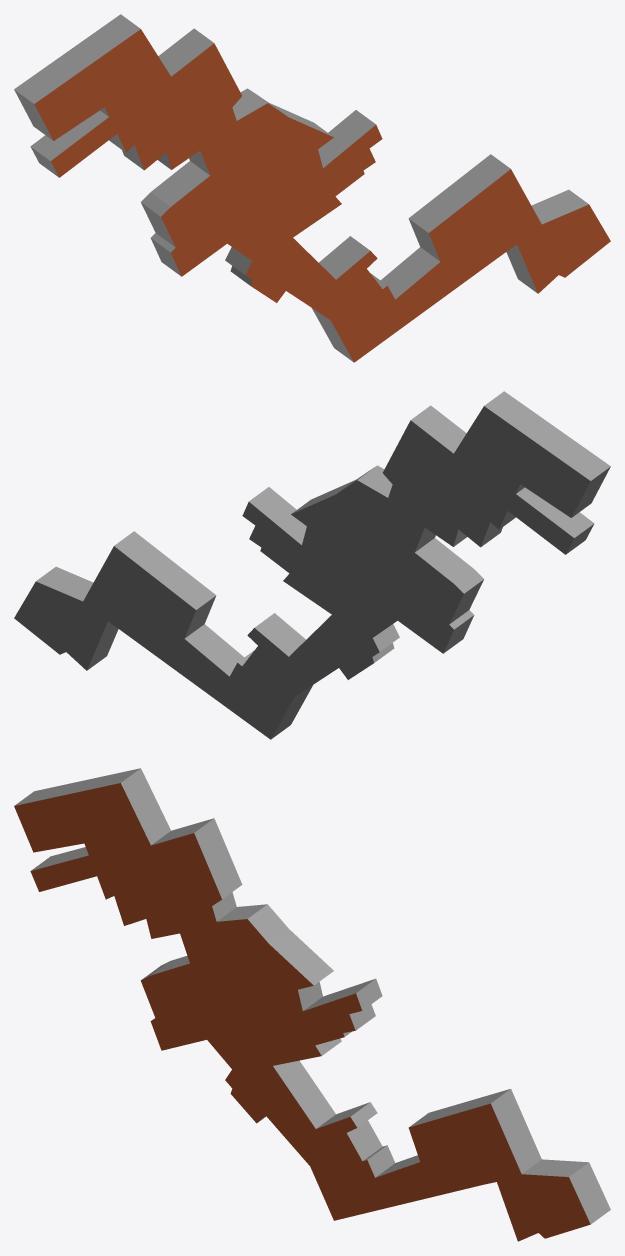
Rendered from construction_5141_assumed_A_Casa_h6m.obj.
3 views of the same model, one above another, from view 1: azimuth 30°, elevation 25°; view 2: azimuth 150°, elevation 25°; view 3: azimuth 330°, elevation 25° (orthographic).
Visible parts, largest first — view 1: construction_5141_assumed_A_Casa; view 2: construction_5141_assumed_A_Casa; view 3: construction_5141_assumed_A_Casa.
Part boxes in pixels (x1,y1,x2,y2): construction_5141_assumed_A_Casa: (14, 14, 610, 362); construction_5141_assumed_A_Casa: (14, 391, 610, 739); construction_5141_assumed_A_Casa: (14, 768, 610, 1241).
Size of the model in its own units: 98.75 by 63.13 by 6.
